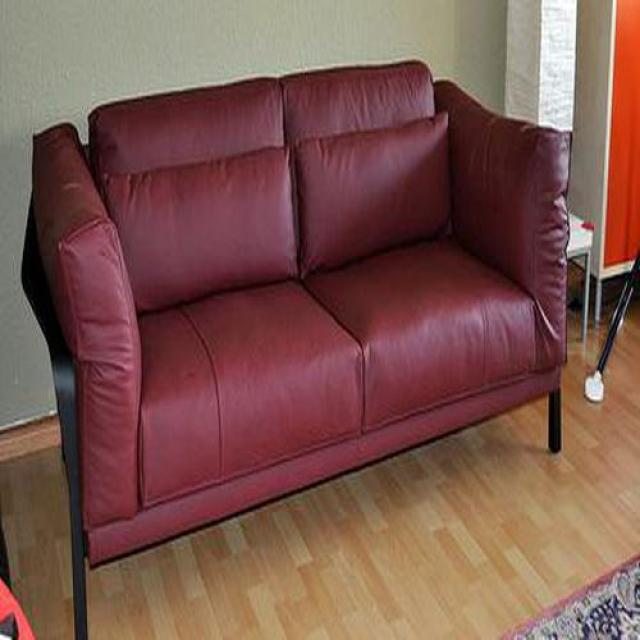sofa: (19, 59, 573, 640)
